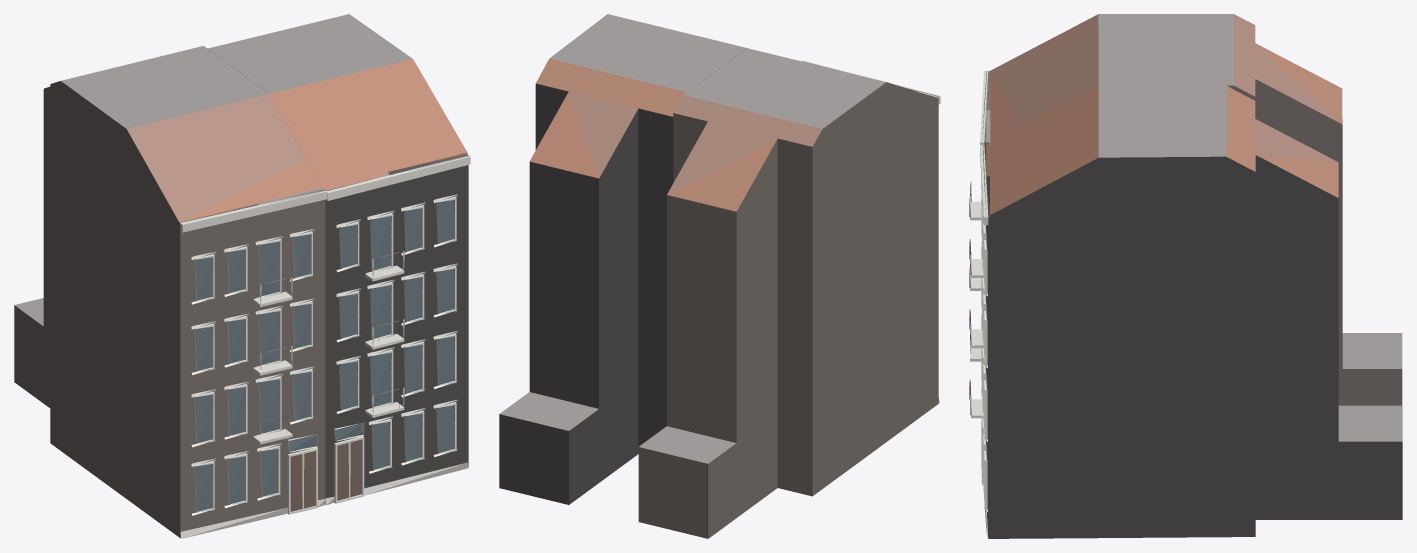
The model's file is chunk-face-pretorius-71-95-r2.lod2.glb.
3 views of the same model, side by side, from view 1: azimuth 30°, elevation 25°; view 2: azimuth 150°, elevation 25°; view 3: azimuth 270°, elevation 25° (orthographic). The views are drawn at different scales.
Visible parts, largest first — view 1: lod2; view 2: lod2; view 3: lod2.
Part boxes in pixels (x1,y1,x2,y2): lod2: [14, 14, 470, 538]; lod2: [499, 14, 940, 538]; lod2: [969, 14, 1402, 538].
Size of the model in its own units: 13.73 by 16.84 by 17.38.
